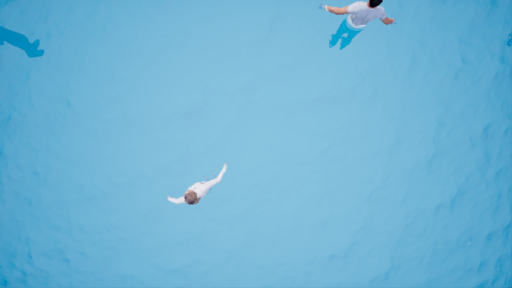person: (318, 1, 397, 53), (165, 155, 233, 209)
